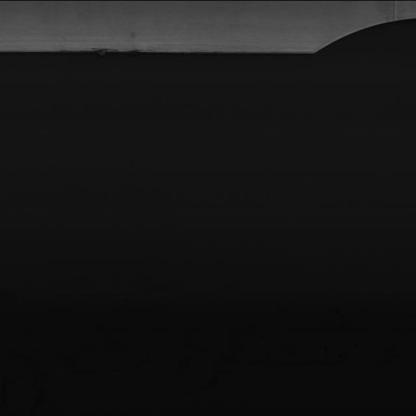crescent_gap: (288, 13, 416, 75)
welding_line: (384, 0, 406, 30)
